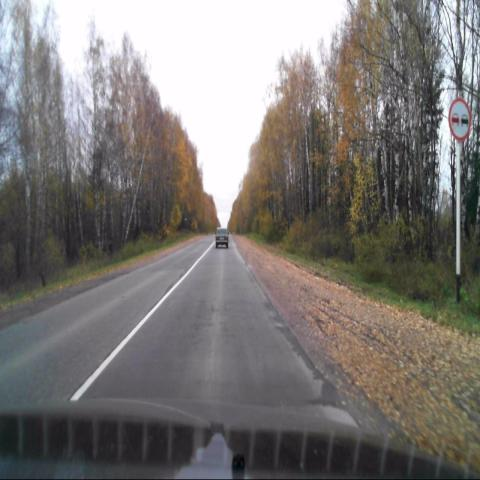3_20: (448, 95, 471, 143)
